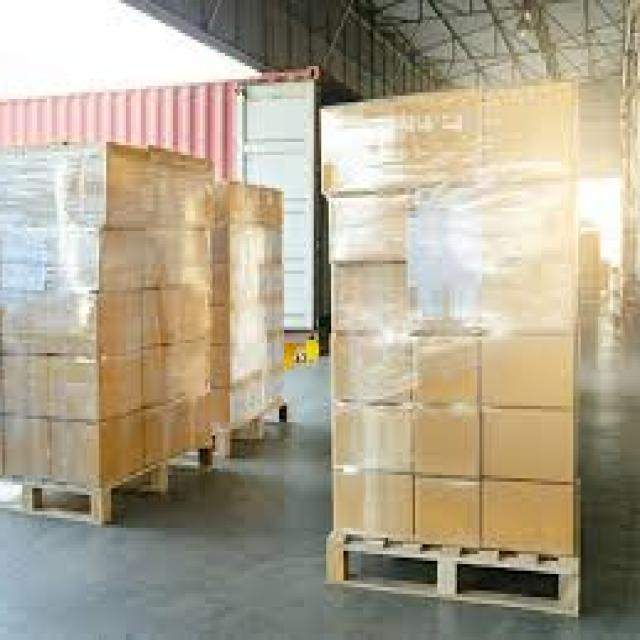cardboxes: (481, 82, 579, 186), (319, 93, 401, 198), (401, 83, 481, 190), (56, 142, 149, 228), (481, 185, 578, 264), (479, 262, 580, 336), (48, 412, 144, 488), (480, 409, 578, 483), (479, 336, 577, 407), (45, 288, 144, 355), (481, 483, 577, 552), (48, 352, 142, 422), (45, 227, 145, 289), (327, 189, 407, 265), (403, 262, 480, 337), (403, 189, 481, 263), (329, 335, 410, 406), (328, 265, 408, 335), (331, 471, 411, 541), (328, 406, 411, 472), (408, 337, 480, 410), (409, 411, 481, 479), (413, 478, 482, 547), (0, 144, 54, 229), (0, 292, 47, 358), (2, 416, 52, 478), (0, 228, 49, 290), (2, 353, 48, 418)
